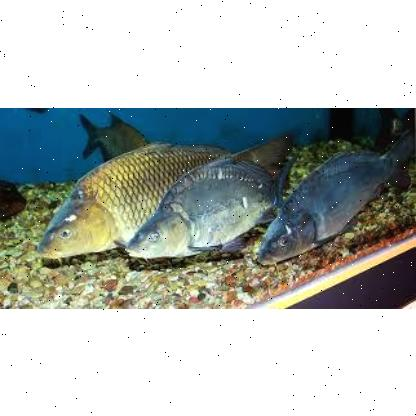ikan-mas: (40, 139, 228, 253), (260, 148, 398, 262), (124, 160, 282, 256)
